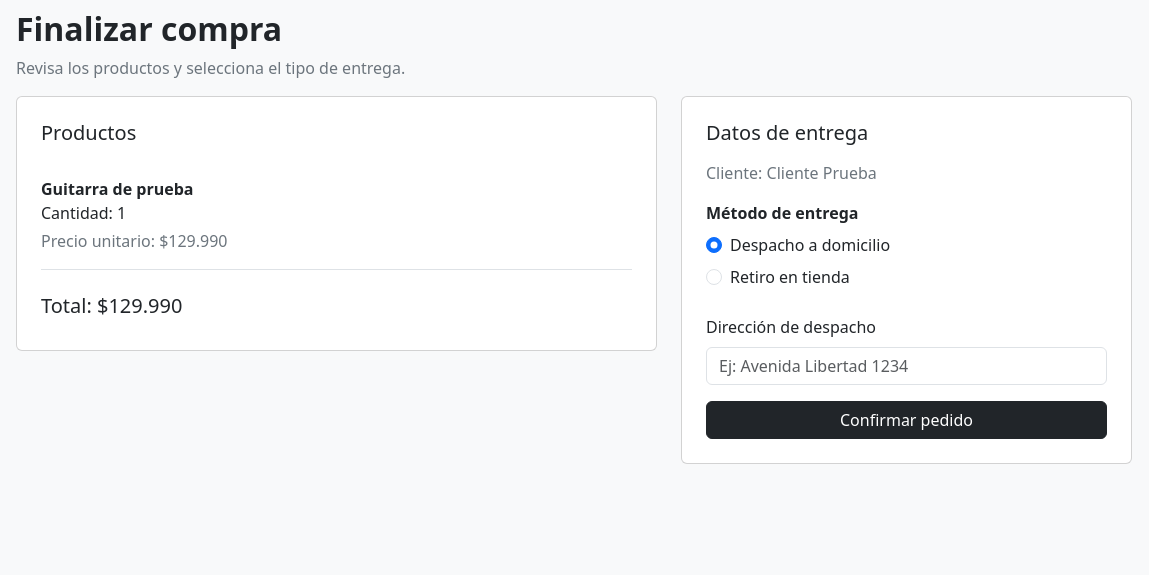
Scenario: Checkout conectado a pedidos de Spring Boot › si el backend rechaza la compra mantiene el carrito
Expected: the button "Confirmar pedido" is enabled, [706, 401, 1107, 439]
Click the radio button labelled "Retiro en tienda": click(714, 277) [706, 269, 722, 285]
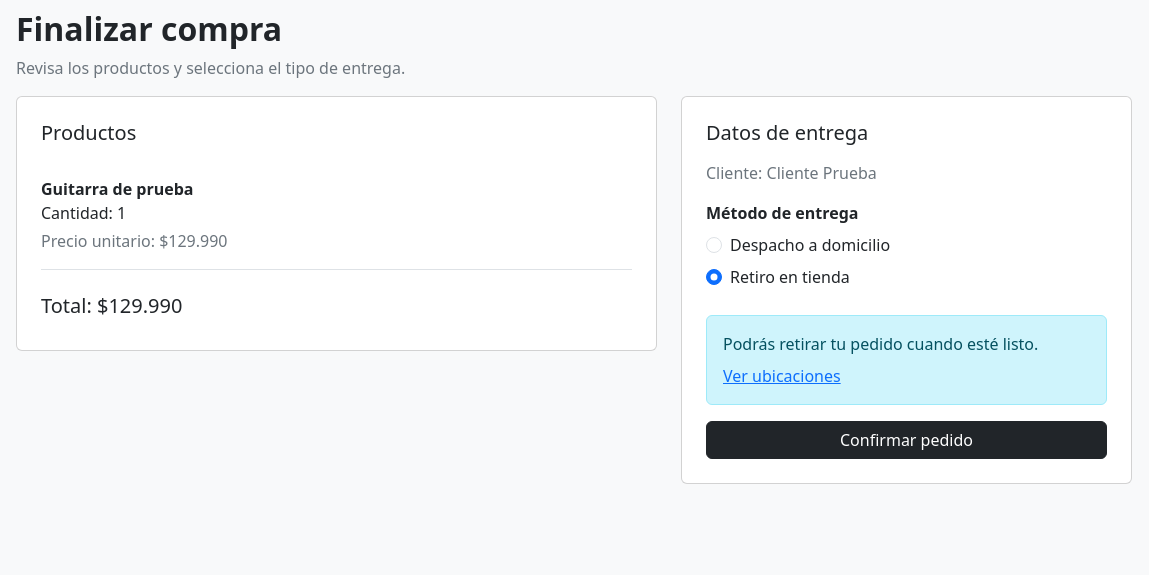
Submit the form named "Confirmar pedido", box [681, 96, 1132, 484]
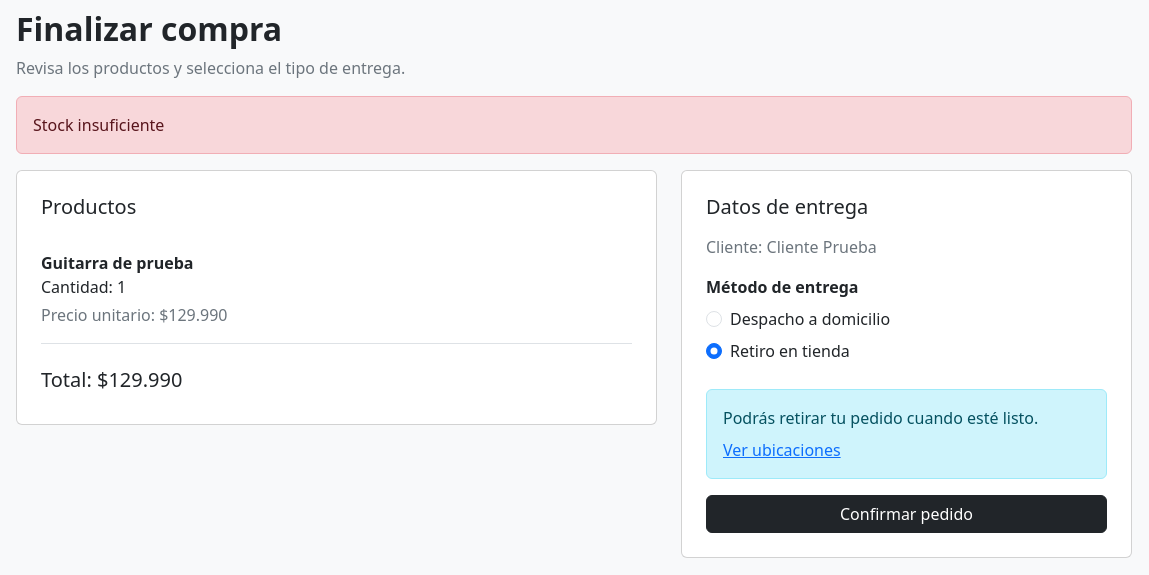
Expected: the message "Stock insuficiente" is shown, [16, 96, 1132, 154]
